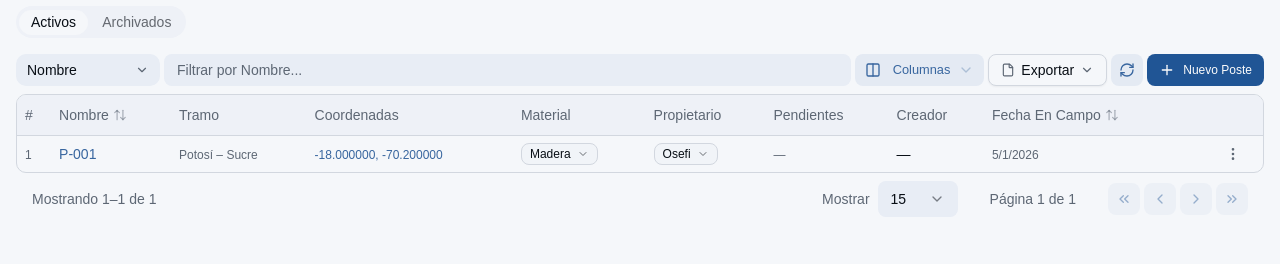
Scenario: where the two inline lists come from › offers the catalogue as options
The width and height of the screenshot is (1280, 264).
Click the button titled "Click para cambiar material".
click(559, 154)  # box [521,142,598,164]
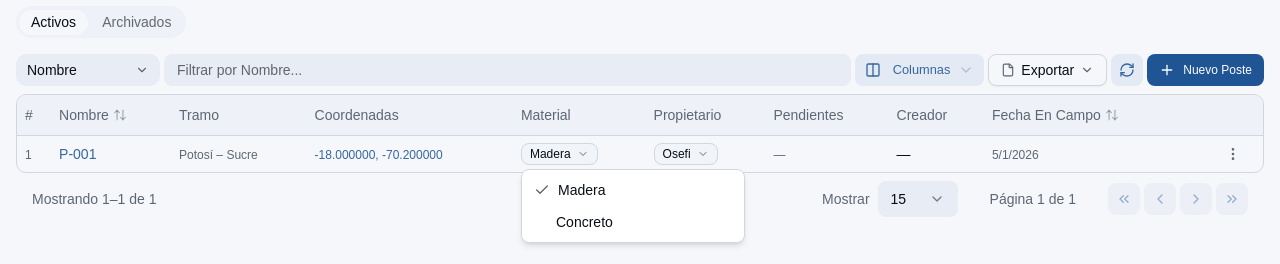
Now the menu item "Concreto" is shown, box [556,214,613,230]
